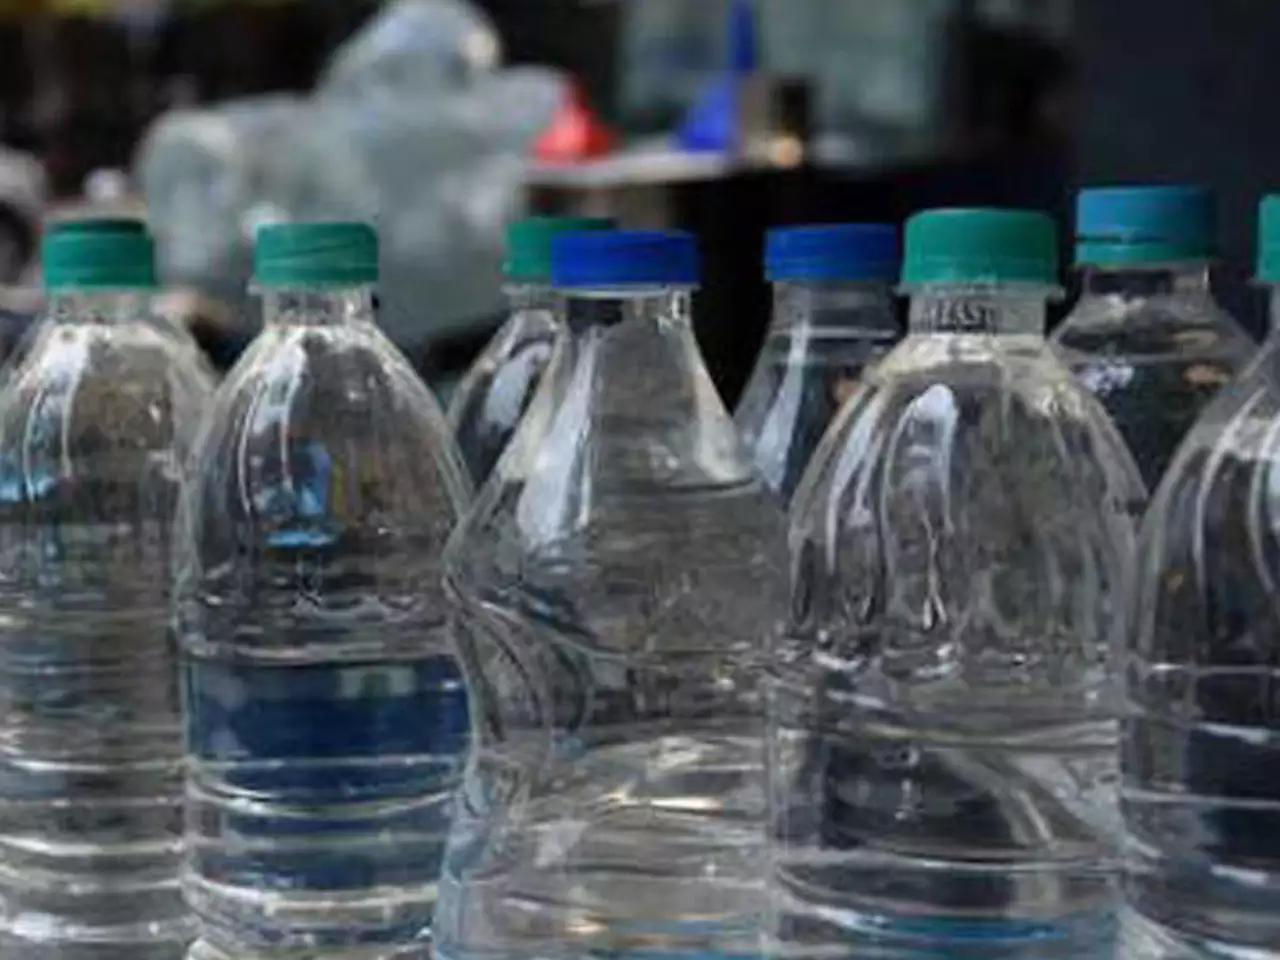plastic: (768, 209, 1144, 956), (435, 233, 783, 956), (182, 223, 468, 956), (0, 219, 210, 956), (1122, 301, 1279, 956)
